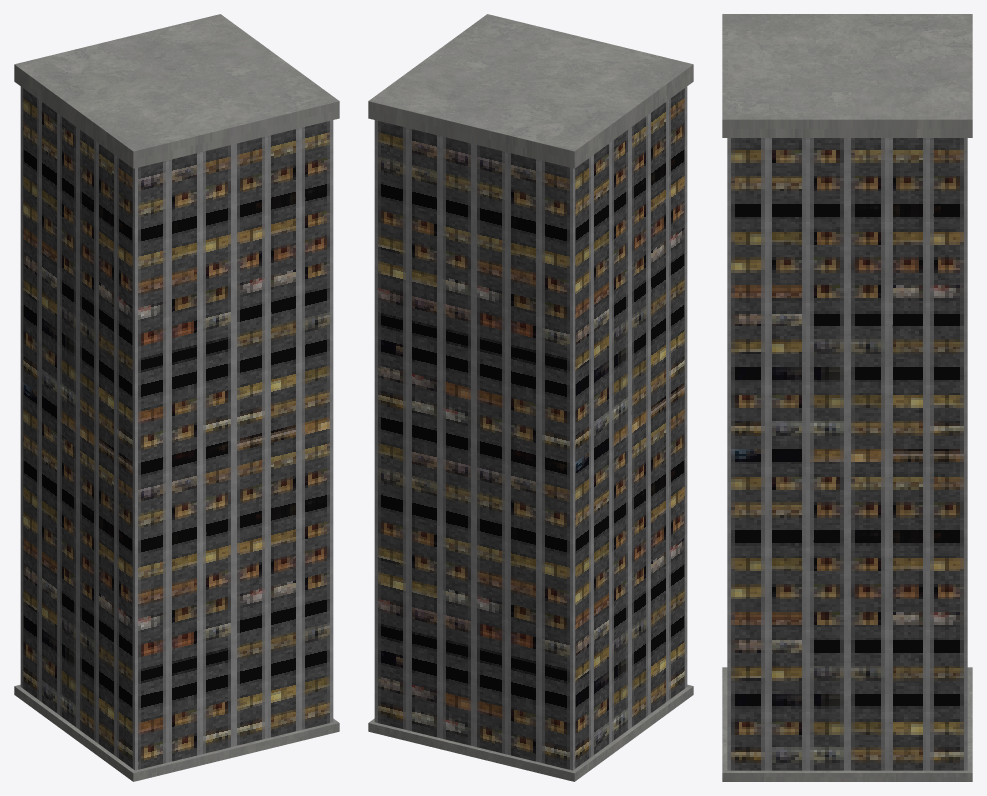
The model's file is building_01.1.glb.
3 renders of one model, left to right at view 1: azimuth 30°, elevation 25°; view 2: azimuth 150°, elevation 25°; view 3: azimuth 270°, elevation 25°, orthographic. The views are drawn at different scales.
Visible parts, largest first — view 1: building_01_12; view 2: building_01_12; view 3: building_01_12.
Boxes of the visible parts, x1,y1,x2,y2 form: building_01_12: (14, 14, 339, 781); building_01_12: (368, 14, 693, 781); building_01_12: (722, 14, 972, 781).
Bounding box in the file's own units: 25 × 73 × 25.
1 material, 1 textured.
